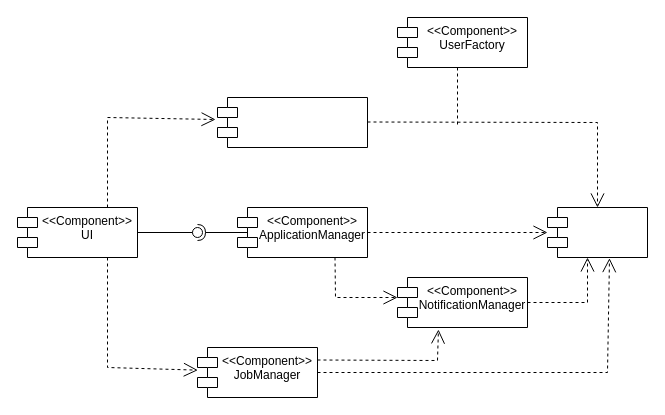
Image size: 665x415. Some labels were removed from this diagram. The centre of each missing label's shape, as x and y in pixels:
"<<Component>> AuthenticationManager" goes at point 292,122.
"DataBase" goes at point 597,232.
